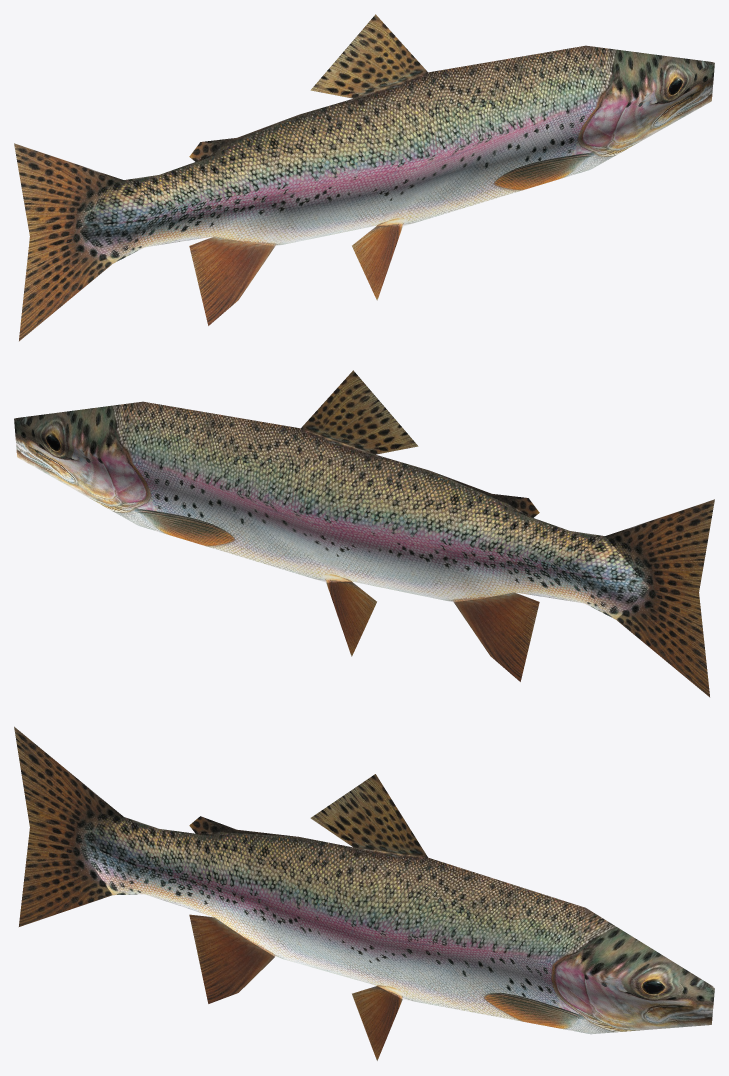
File: rainbow_trout.obj
The picture shows the model from 3 angles, top to bottom: view 1: azimuth 30°, elevation 25°; view 2: azimuth 150°, elevation 25°; view 3: azimuth 330°, elevation 25°; orthographic projection.
Bounding box in the file's own units: 3.16 × 1.24 × 0.4107.
1 material, 1 textured.
